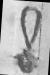W19: (2, 0, 48, 74)
